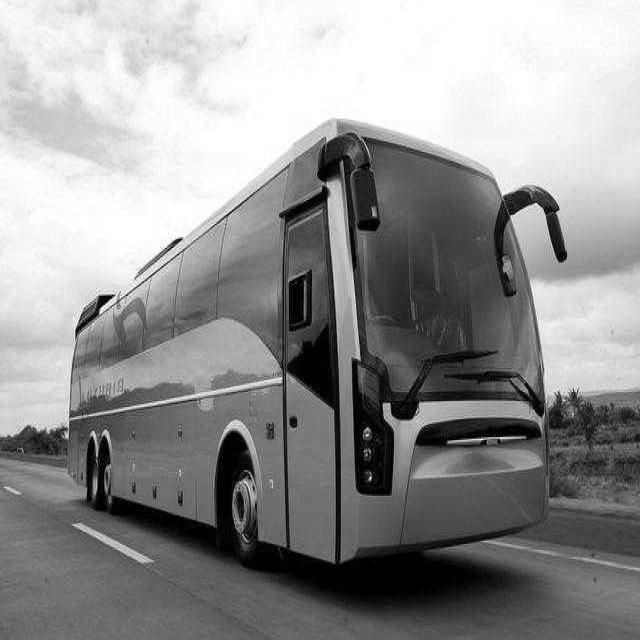Bus: (68, 121, 566, 564)
